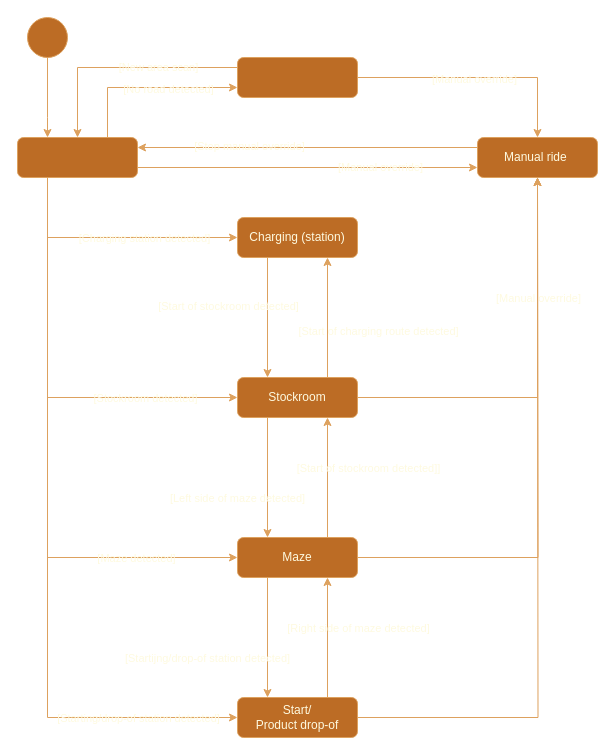
Image size: 615x755. Some labels were removed from this diagram. Here are the shapes that lost their labels. From the top down, the centre of each, then its label:
pixel 297 77: Lost
pixel 77 157: Init
